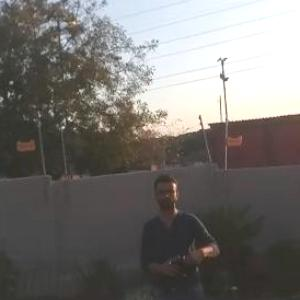follow: (134, 162, 226, 299)
